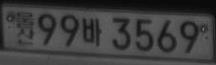3: (111, 16, 131, 50)
5: (134, 17, 154, 52)
6: (156, 19, 178, 53)
9: (179, 19, 200, 54), (59, 13, 80, 47), (37, 12, 57, 45)
바: (81, 17, 102, 46)
울산_V: (14, 10, 35, 45)
